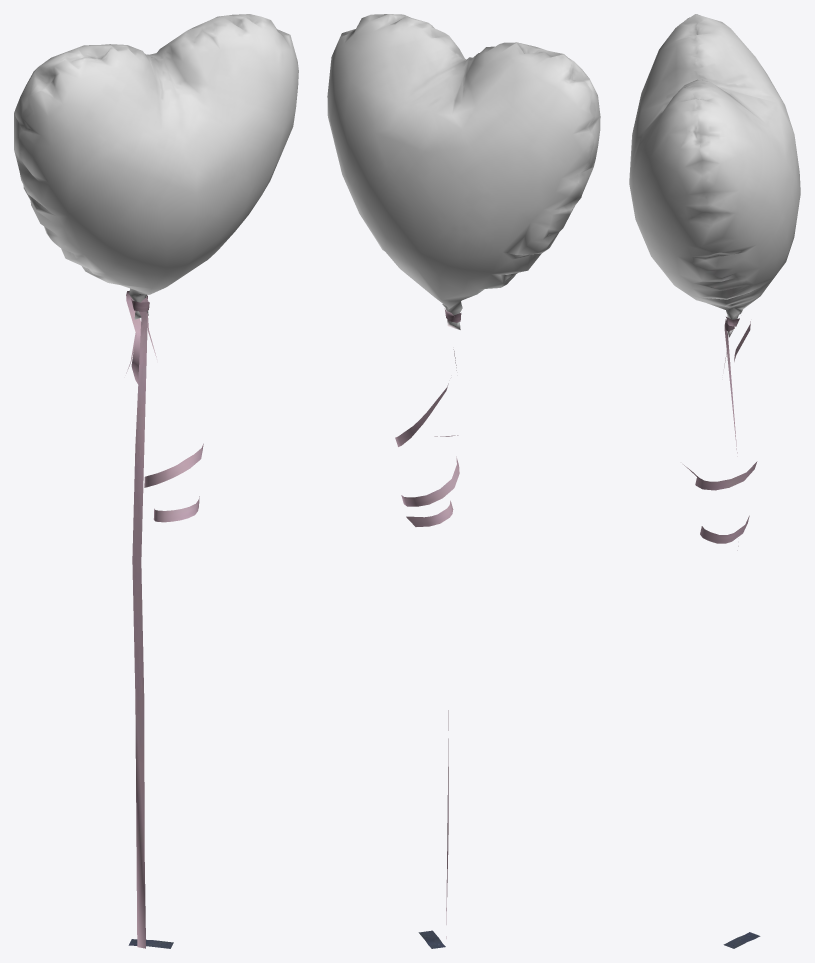
Rendered from heart_balloon.deployed.glb.
3 renders of one model, left to right at view 1: azimuth 30°, elevation 25°; view 2: azimuth 150°, elevation 25°; view 3: azimuth 270°, elevation 25°, orthographic. The views are drawn at different scales.
Visible parts, largest first — view 1: heart_balloon_LOD0; view 2: heart_balloon_LOD0; view 3: heart_balloon_LOD0.
Part boxes in pixels (box(x1,y1,x2,y2)): heart_balloon_LOD0: box(14, 14, 298, 948); heart_balloon_LOD0: box(327, 14, 600, 948); heart_balloon_LOD0: box(629, 14, 800, 948).
Size of the model in its own units: 0.5344 by 1.75 by 0.3106.
1 material, 1 textured.
